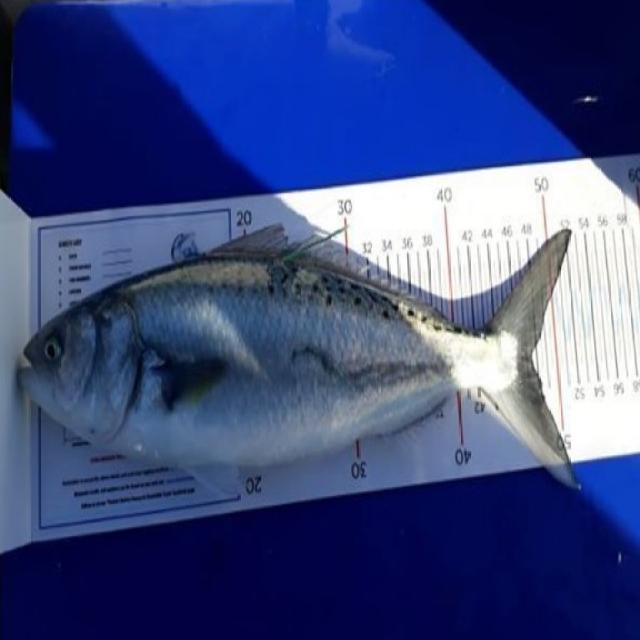Australian Salmon: (8, 200, 591, 505)
